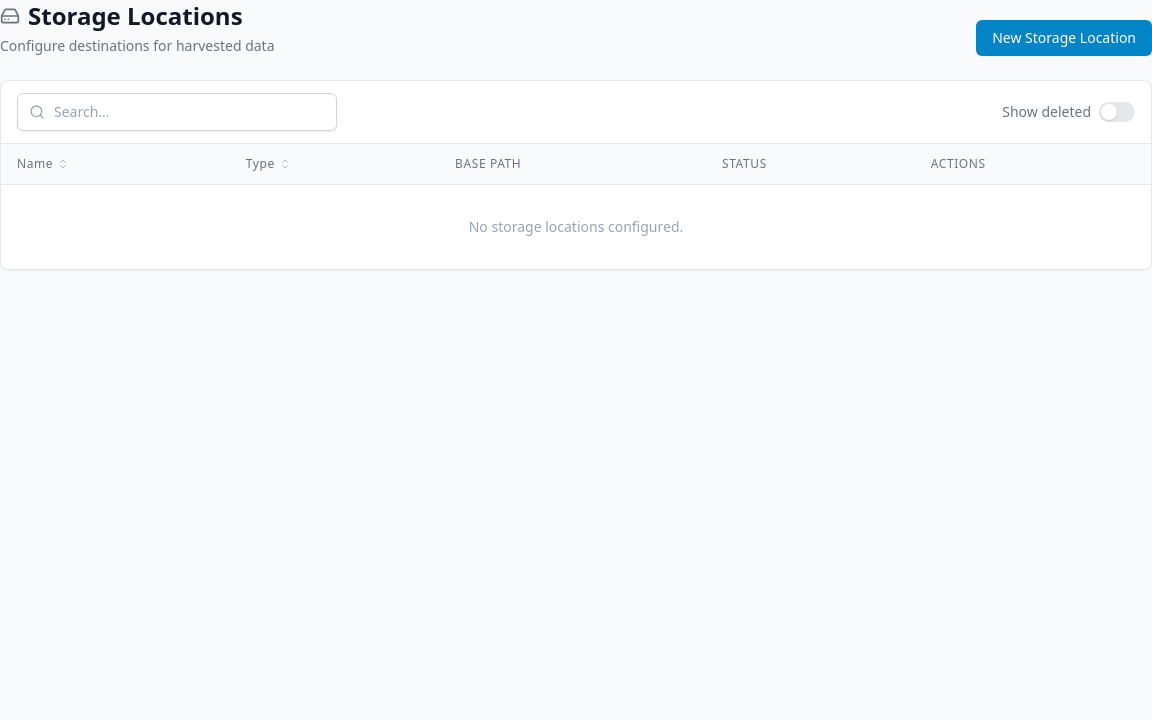
Storage admin page › "New Storage Location" button opens create modal
Click the button "New Storage Location": (1064, 38) [976,20,1151,56]
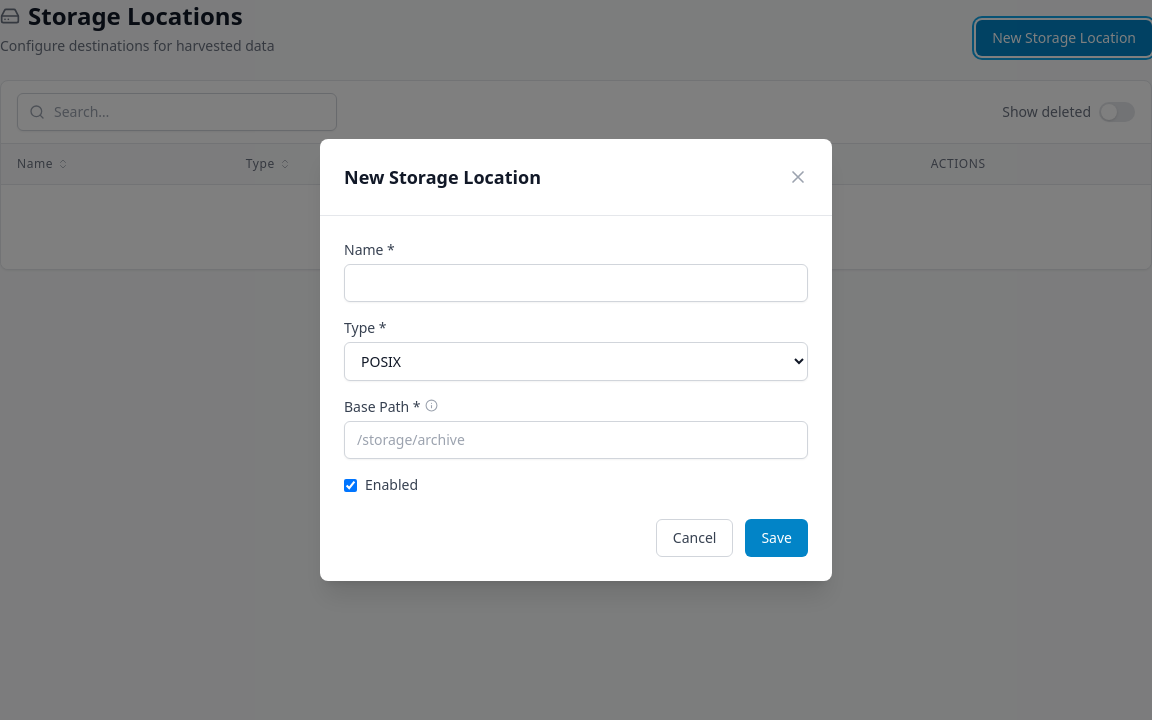
Check: the heading "New Storage Location" is shown, box [344,163,541,191]
